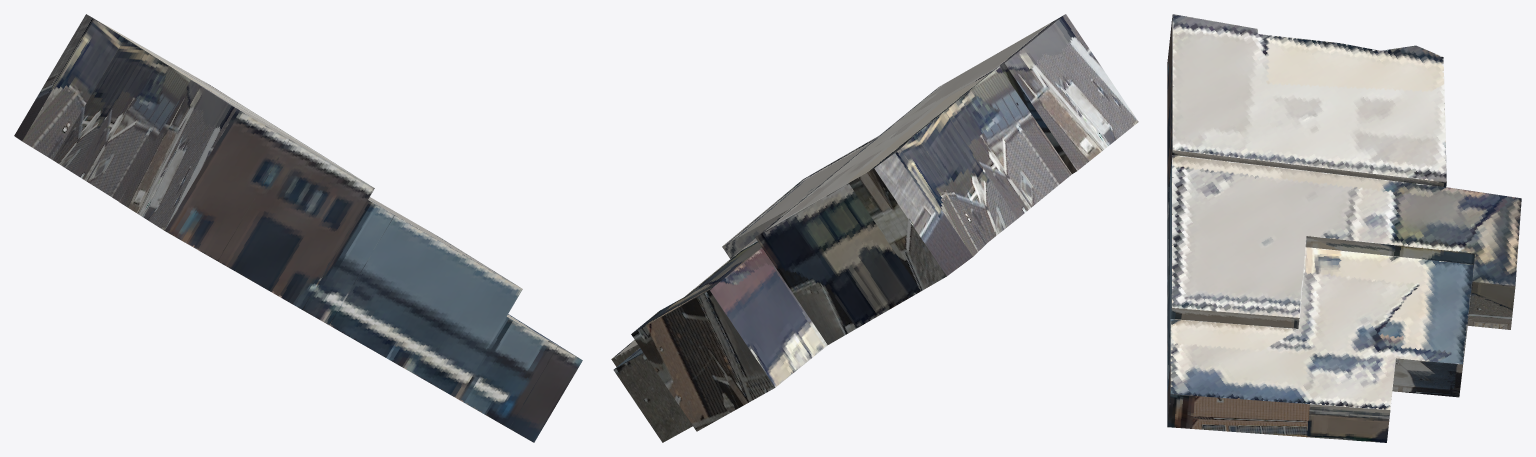
3 views of the same model, side by side, from view 1: azimuth 30°, elevation 25°; view 2: azimuth 150°, elevation 25°; view 3: azimuth 270°, elevation 25° (orthographic). The views are drawn at different scales.
Visible parts, largest first — view 1: BAG_0599100000760489 (×5); view 2: BAG_0599100000760489 (×5); view 3: BAG_0599100000760489 (×5).
Boxes of the visible parts, <box> form: BAG_0599100000760489 (×5): <box>14,14,582,442</box>; BAG_0599100000760489 (×5): <box>611,14,1138,442</box>; BAG_0599100000760489 (×5): <box>1167,14,1521,442</box>.
Size of the model in its own units: 26.87 by 25.56 by 25.73.
5 materials, 5 textured.
